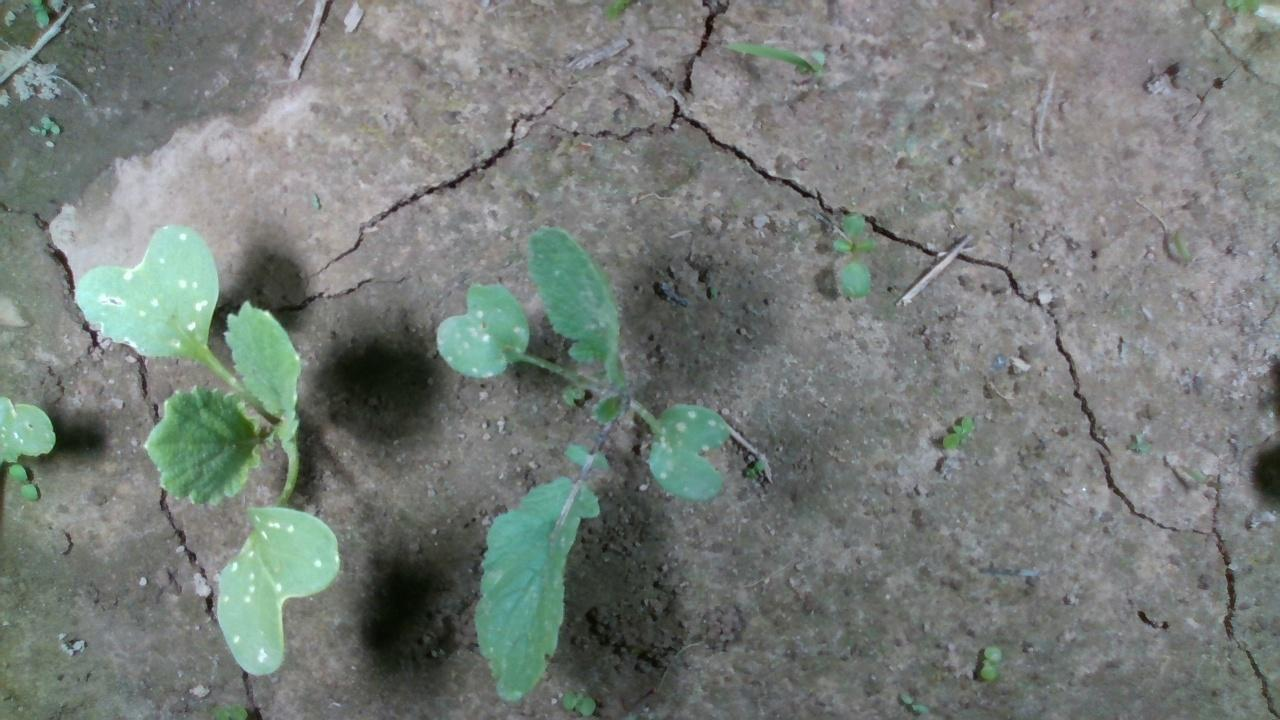weed: (939, 411, 975, 450), (7, 461, 39, 501), (558, 688, 596, 717), (978, 643, 1002, 681), (896, 691, 931, 716)
